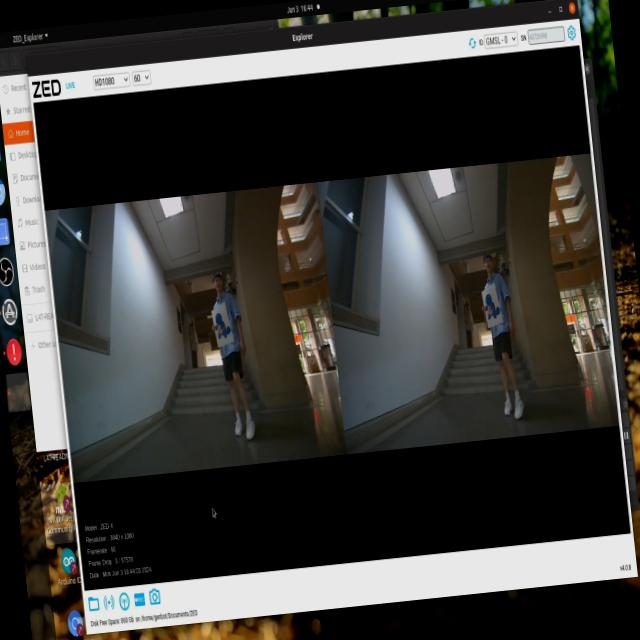blue: (204, 304, 231, 348), (480, 282, 500, 331)
